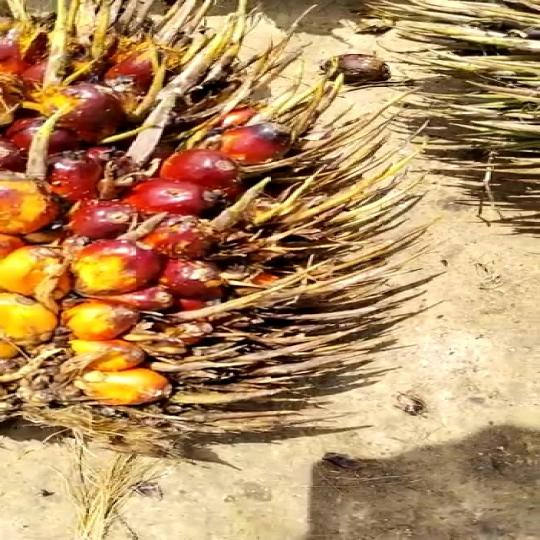masak: (0, 2, 389, 470)
